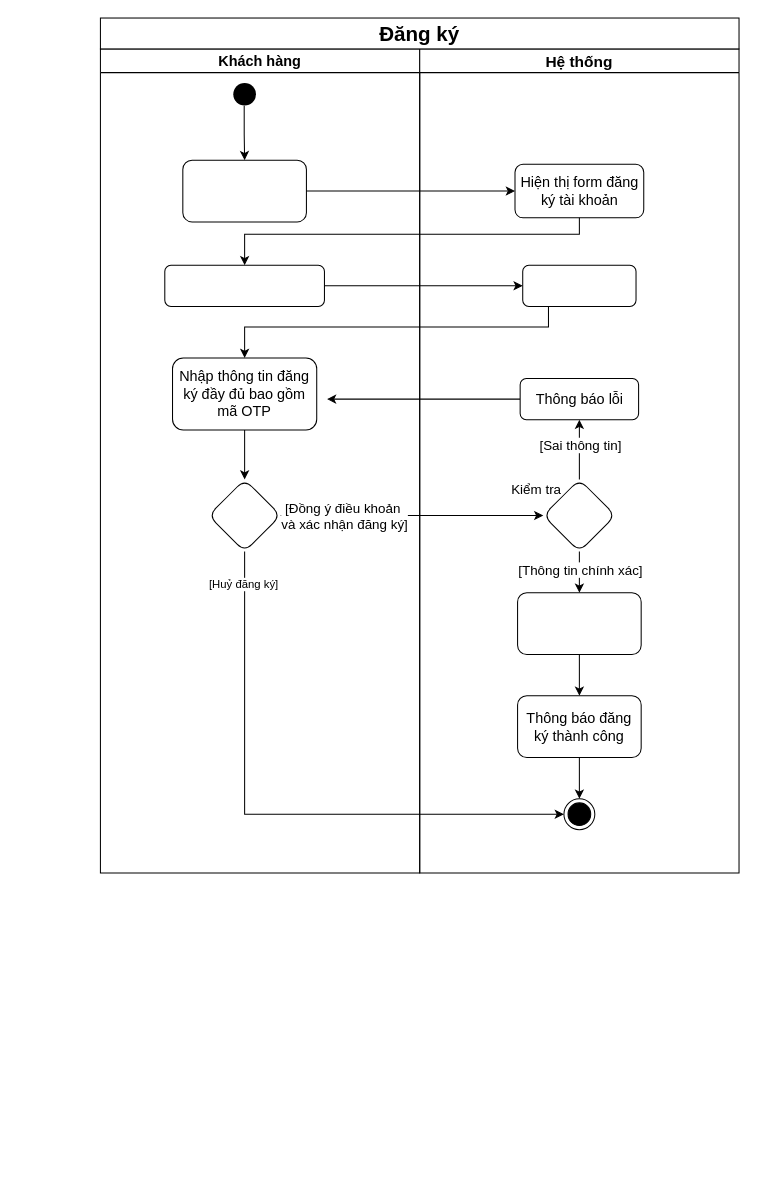
The diagram is 777 pixels wide and 1200 high, and some of its shapes have lost their labels. Here are the shapes that lost their labels. From the top down, the centre of each, then its label:
(244,190): Chọn đăng ký tài khoản
(244,285): Nhập số điện thoại và yêu cầu gủi mã OTP
(579,285): Gửi mã OTP
(579,623): Tạo tài khoản người dùng đăng ký
